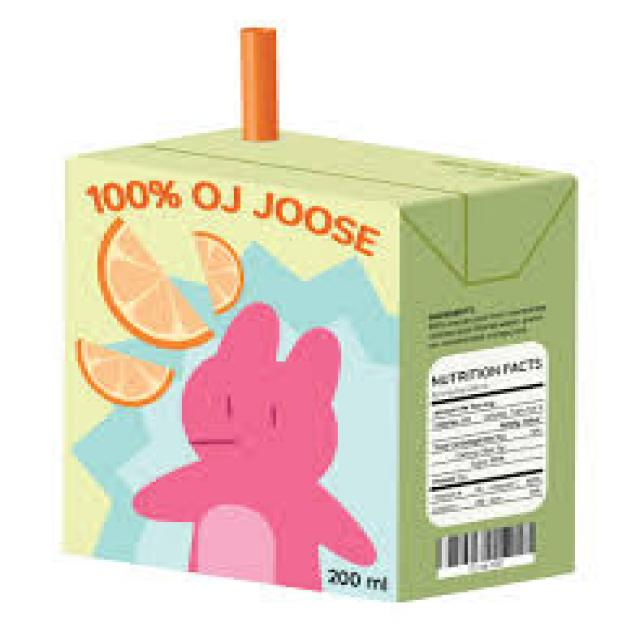non_white_jug: (50, 121, 593, 608)
